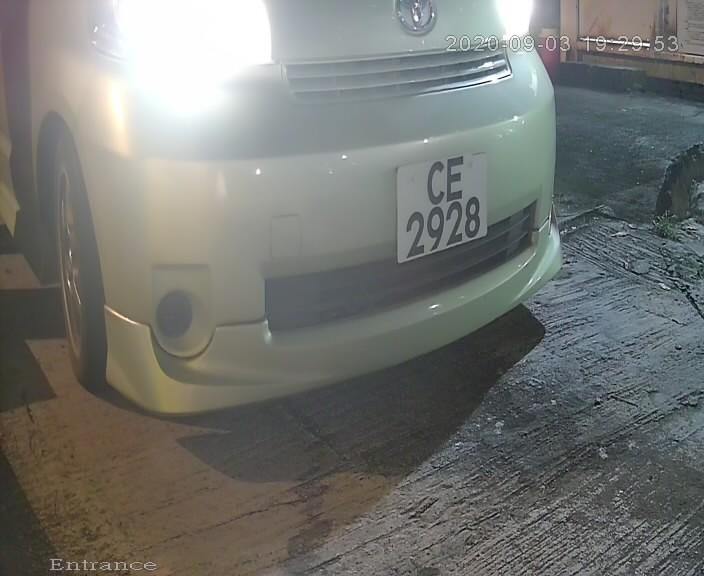License Plate: (390, 134, 494, 273)
